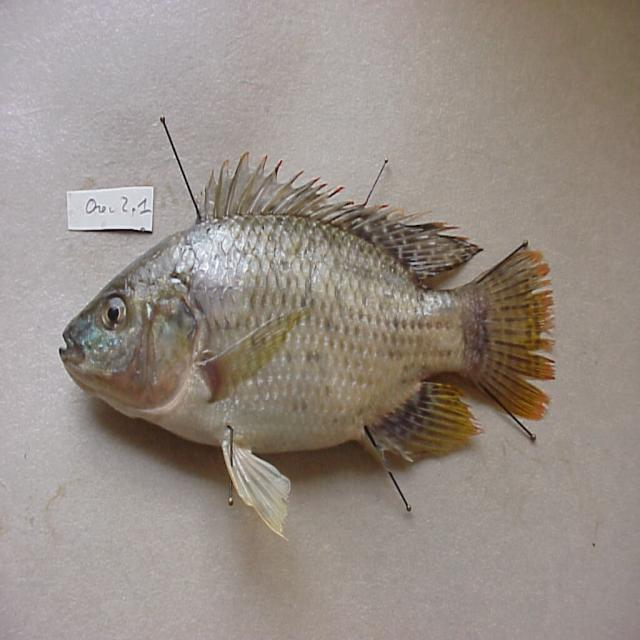ikan: (58, 114, 557, 542)
